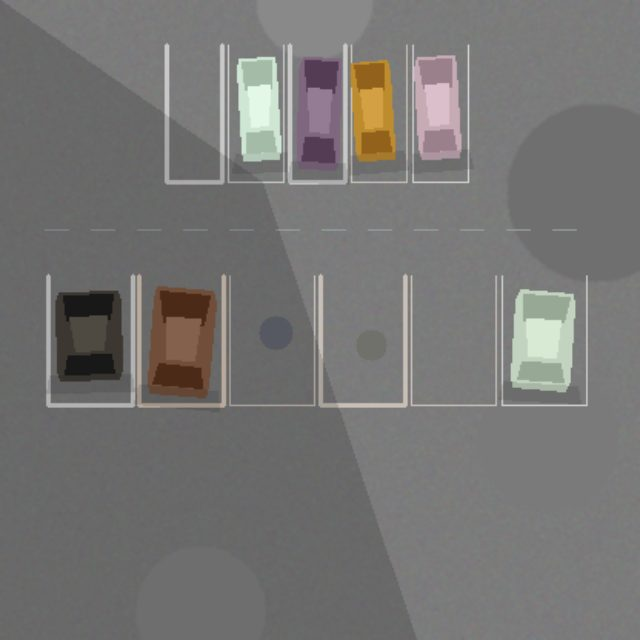space-empty: (229, 275, 314, 405), (320, 275, 405, 405), (411, 275, 495, 405), (166, 45, 222, 182)
space-occupied: (138, 275, 223, 405), (48, 275, 132, 405), (502, 275, 586, 405), (289, 45, 345, 182), (412, 45, 468, 182), (228, 45, 283, 182), (351, 45, 406, 182)
